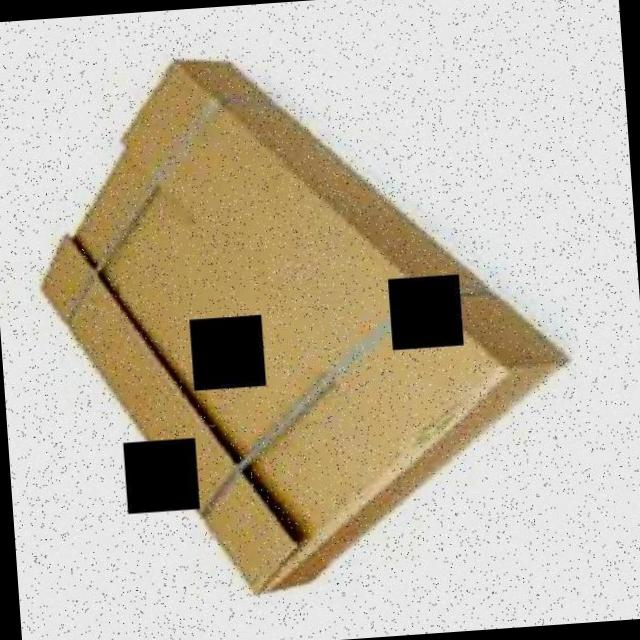box: (13, 26, 610, 622)
